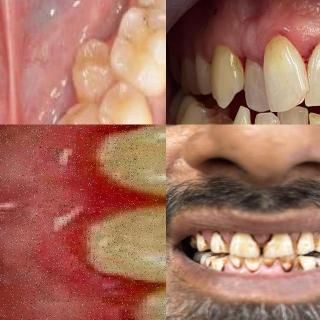Gum Swelling: (24, 124, 142, 320), (201, 14, 320, 68)
maligned: (260, 28, 310, 112), (66, 30, 118, 102), (237, 56, 272, 110), (49, 92, 103, 124), (301, 30, 320, 110), (276, 104, 308, 125), (223, 108, 255, 124), (197, 110, 229, 124)
plaque: (98, 124, 166, 206), (88, 212, 166, 282)
stains: (266, 234, 294, 256), (236, 232, 258, 256), (212, 229, 230, 253), (192, 231, 210, 254), (298, 232, 314, 256), (260, 257, 280, 270), (246, 258, 262, 274), (278, 256, 296, 270), (298, 256, 312, 272), (214, 260, 230, 272), (229, 256, 243, 267), (194, 252, 206, 262), (315, 233, 320, 253), (204, 256, 214, 266), (312, 258, 320, 268)
